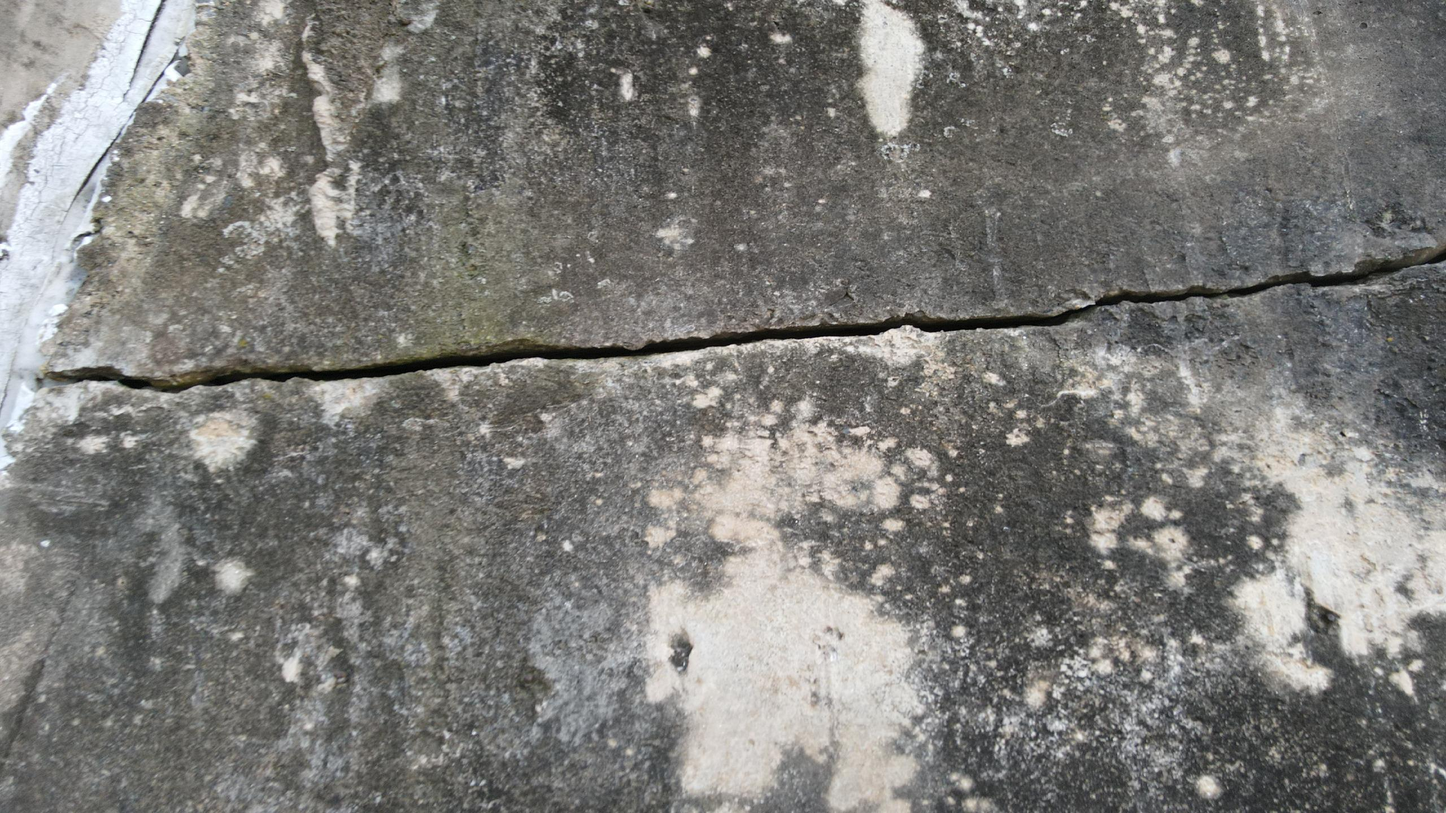crack: (39, 247, 1444, 394)
